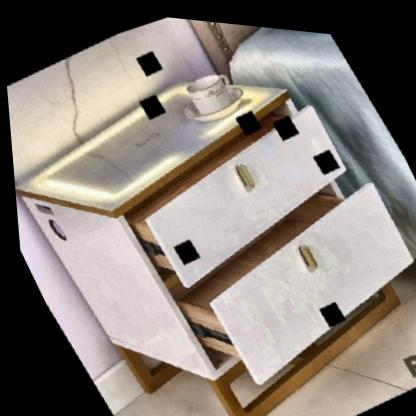Nightstand: (1, 10, 416, 416)
